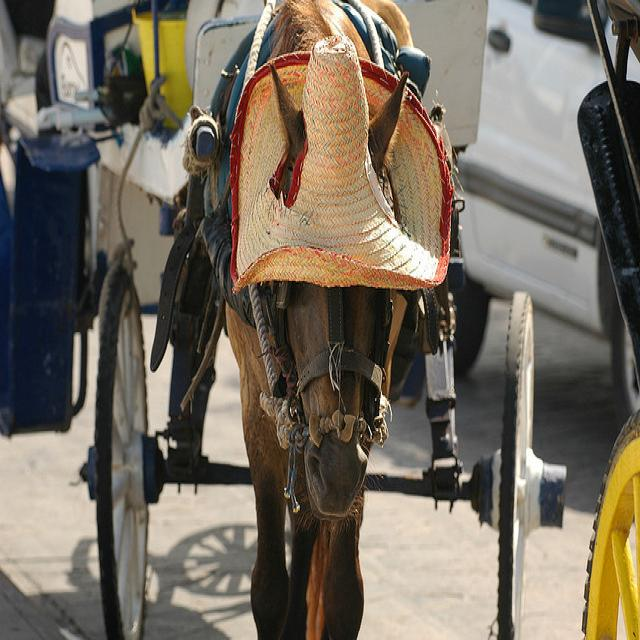Vehicle: (456, 0, 640, 431)
